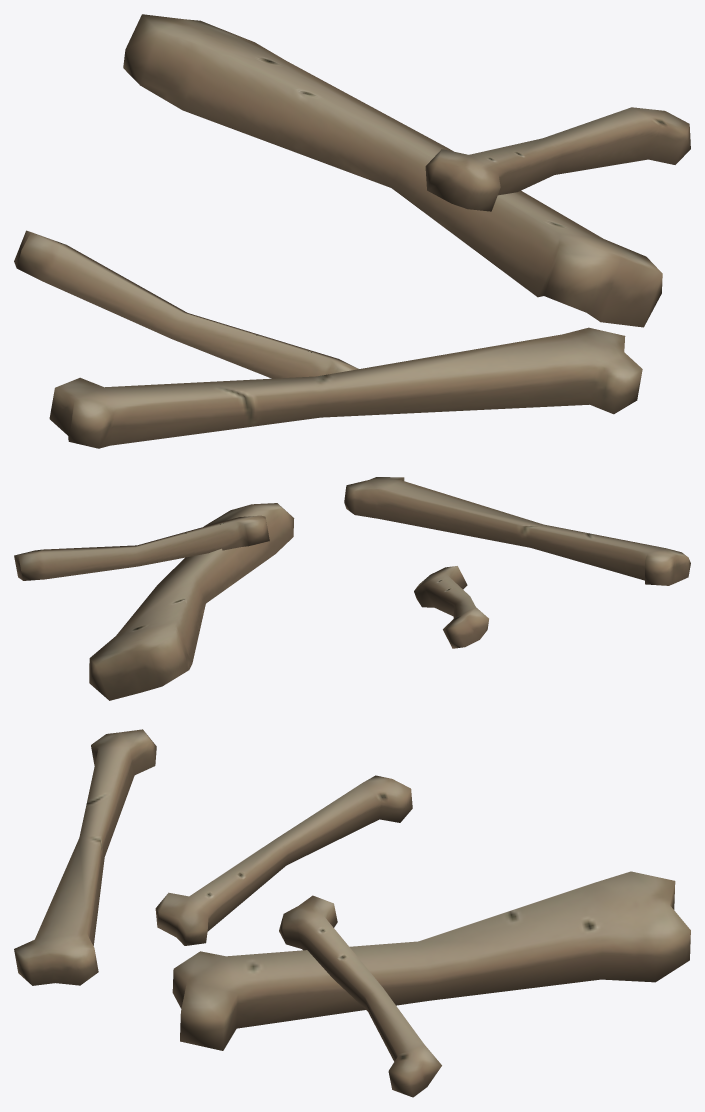
Rendered from Bones_01.fbx.
3 views of the same model, one above another, from view 1: azimuth 30°, elevation 25°; view 2: azimuth 150°, elevation 25°; view 3: azimuth 270°, elevation 25° (orthographic). The views are drawn at different scales.
Visible parts, largest first — view 1: polySurface660; view 2: polySurface660; view 3: polySurface660.
Boxes of the visible parts, x1,y1,x2,y2 form: polySurface660: [14, 14, 690, 448]; polySurface660: [14, 477, 690, 700]; polySurface660: [14, 729, 690, 1097].
Size of the model in its own units: 1.87 by 0.3151 by 1.75.
1 material, 1 textured.
